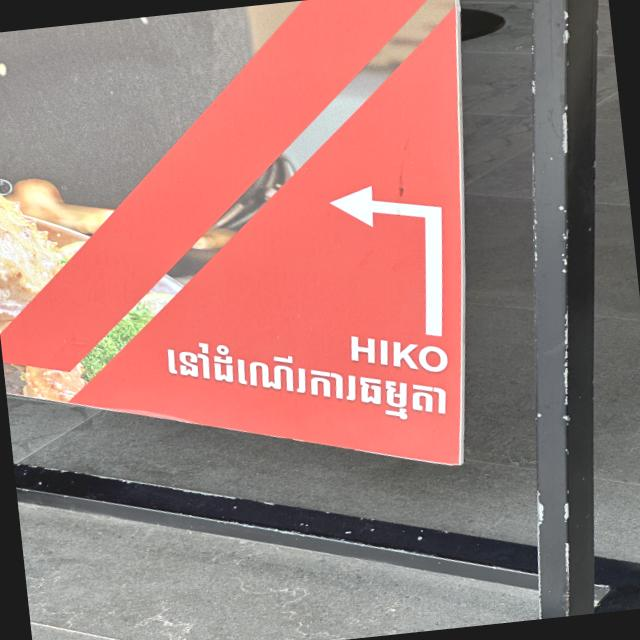Yolov11kh: (151, 330, 449, 435)
